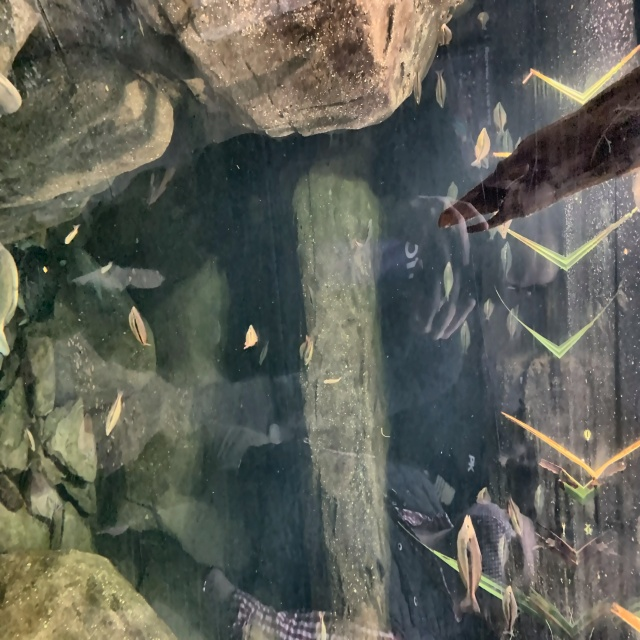fish: (456, 513, 484, 617), (0, 236, 19, 357), (127, 303, 151, 350), (102, 391, 124, 437), (471, 126, 491, 172), (500, 586, 518, 637), (441, 261, 455, 306), (299, 333, 315, 370), (433, 69, 446, 111), (492, 100, 508, 134), (458, 318, 472, 355), (505, 307, 520, 341), (410, 68, 423, 106), (499, 239, 511, 280), (243, 321, 258, 353), (437, 19, 452, 50), (61, 225, 80, 247), (483, 295, 495, 324), (495, 219, 514, 235)
